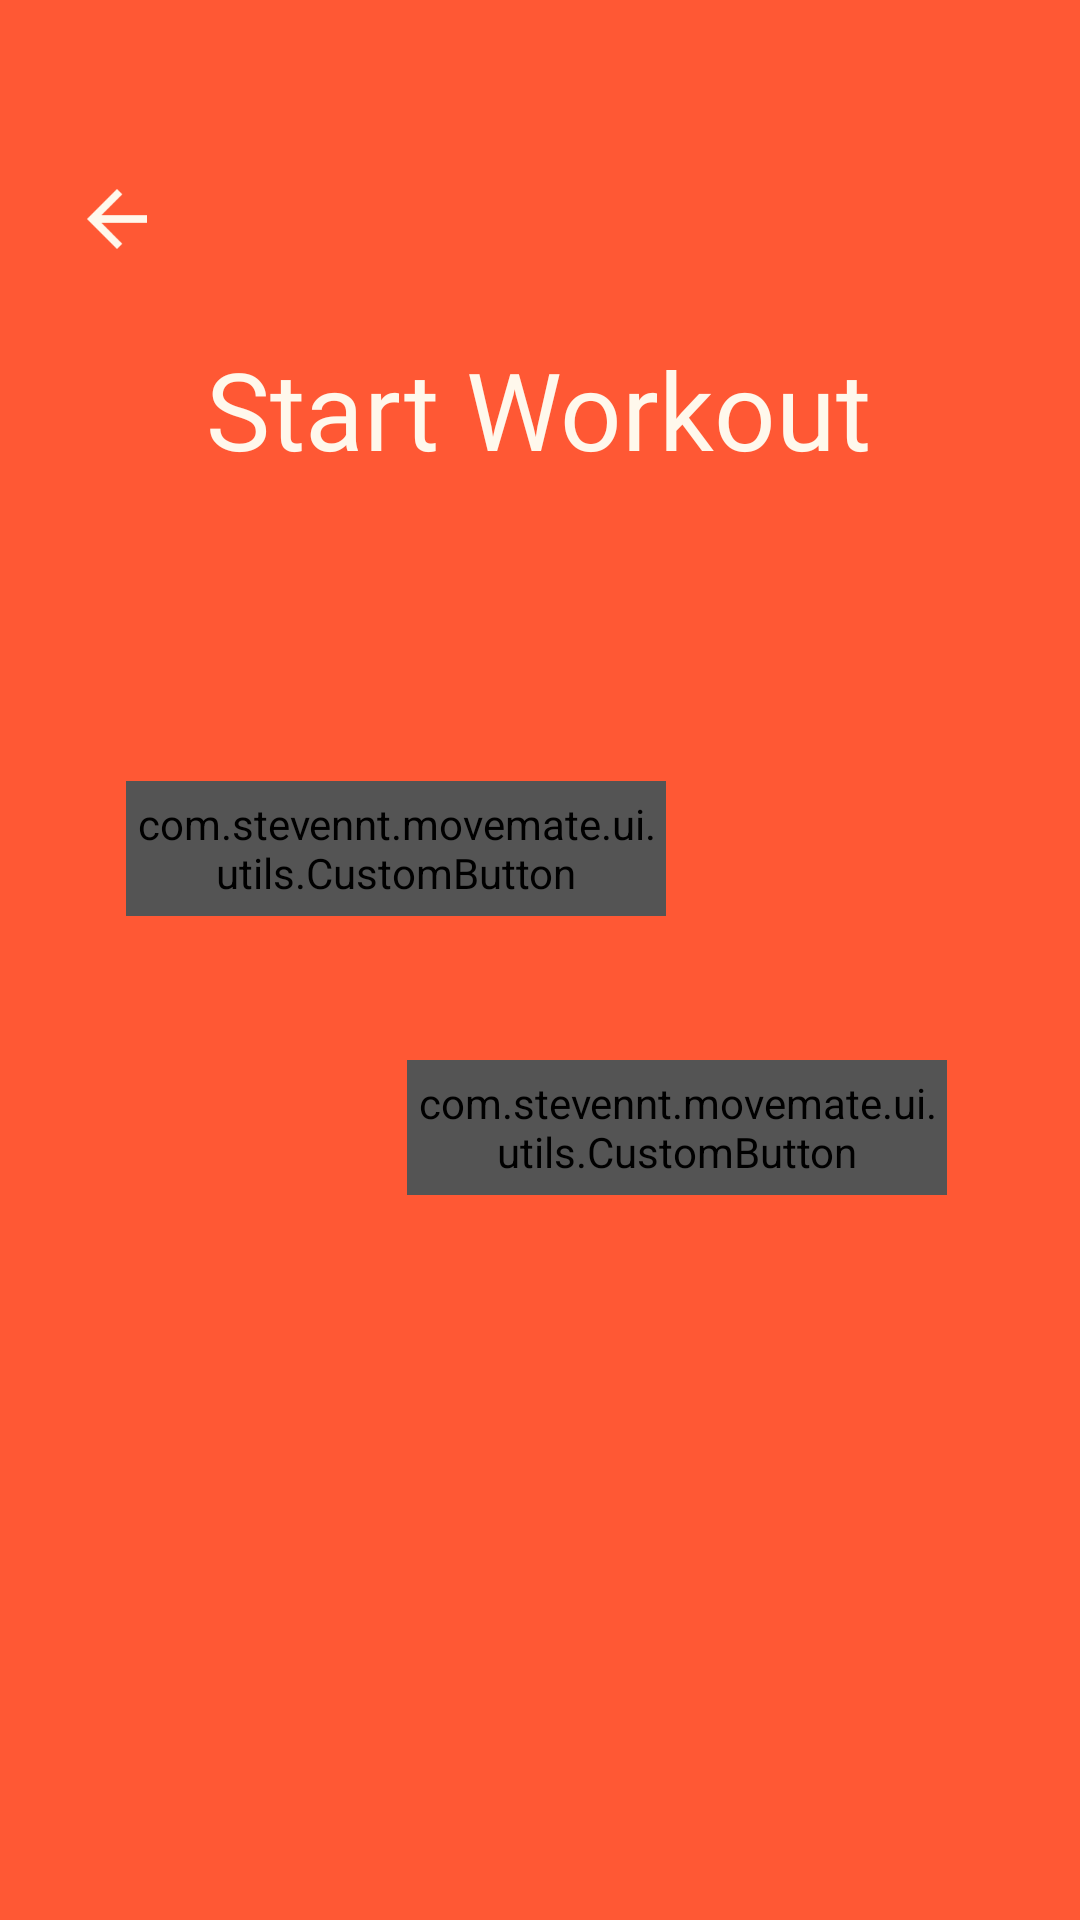

Locate icon controls on the screen. Image size 1080×1920, boxes as (x1, y1, x2, y2).
arrow back: (87, 189, 147, 249)
